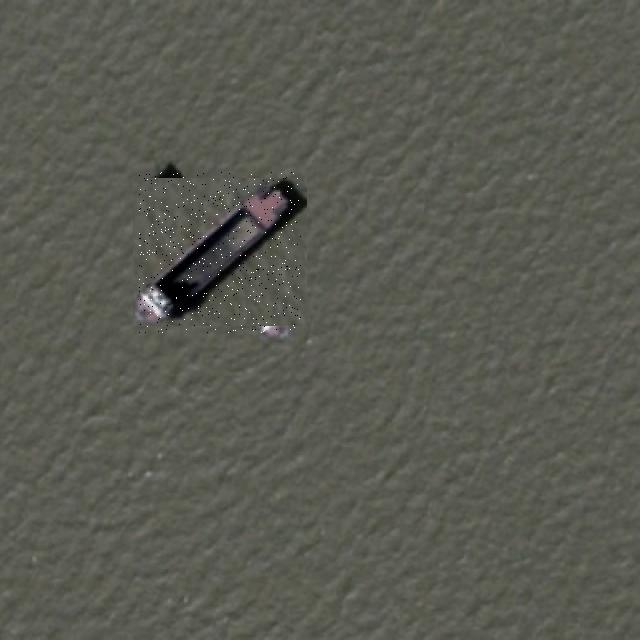boat: (139, 172, 301, 333)
